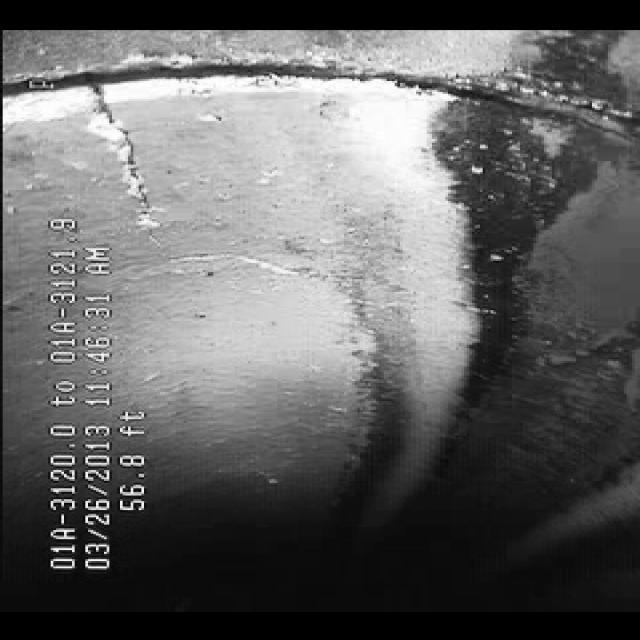Crack: (80, 64, 190, 228)
